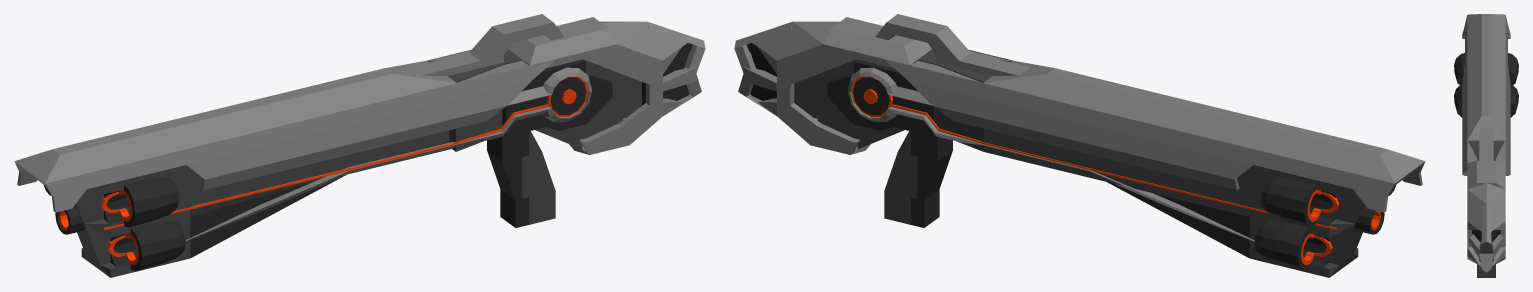
The model's file is Scattershot.obj.
3 renders of one model, left to right at view 1: azimuth 30°, elevation 25°; view 2: azimuth 150°, elevation 25°; view 3: azimuth 270°, elevation 25°, orthographic. The views are drawn at different scales.
Parts seen in each view (by area): view 1: the_node.575_tri_12300_geometry; view 2: the_node.575_tri_12300_geometry; view 3: the_node.575_tri_12300_geometry.
Boxes of the visible parts, <box> form: the_node.575_tri_12300_geometry: <box>14,14,705,277</box>; the_node.575_tri_12300_geometry: <box>734,14,1425,277</box>; the_node.575_tri_12300_geometry: <box>1454,14,1518,277</box>.
Size of the model in its own units: 0.8785 by 0.2423 by 0.1168.
